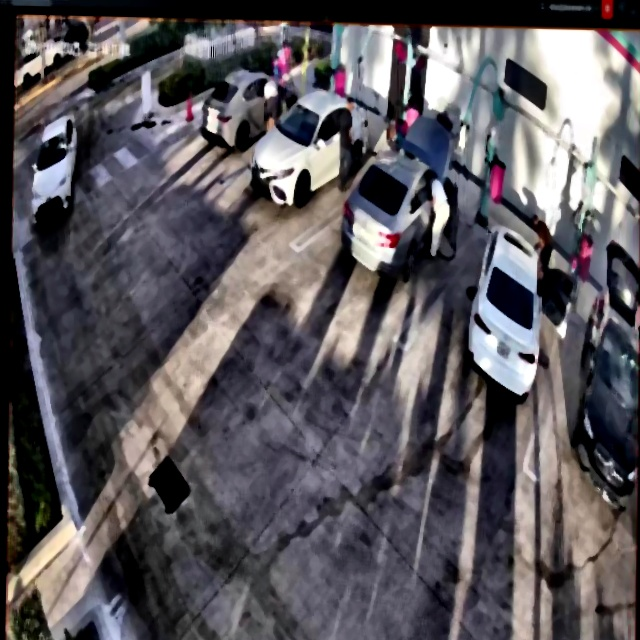Car: (344, 117, 446, 282), (253, 90, 369, 206), (470, 225, 541, 401), (202, 65, 300, 150)
